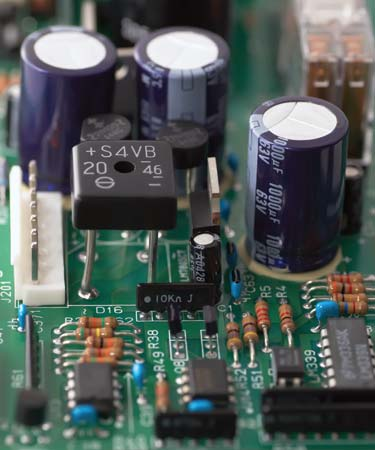capacitor: (238, 75, 359, 314), (11, 24, 119, 180), (125, 23, 232, 172)
